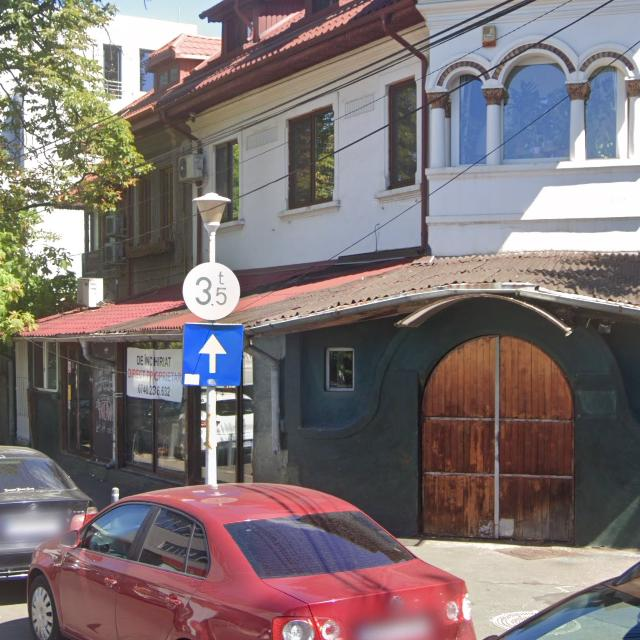forb_weight_over_3.5t: (182, 262, 241, 321)
info_one_way_traffic: (182, 323, 245, 387)
